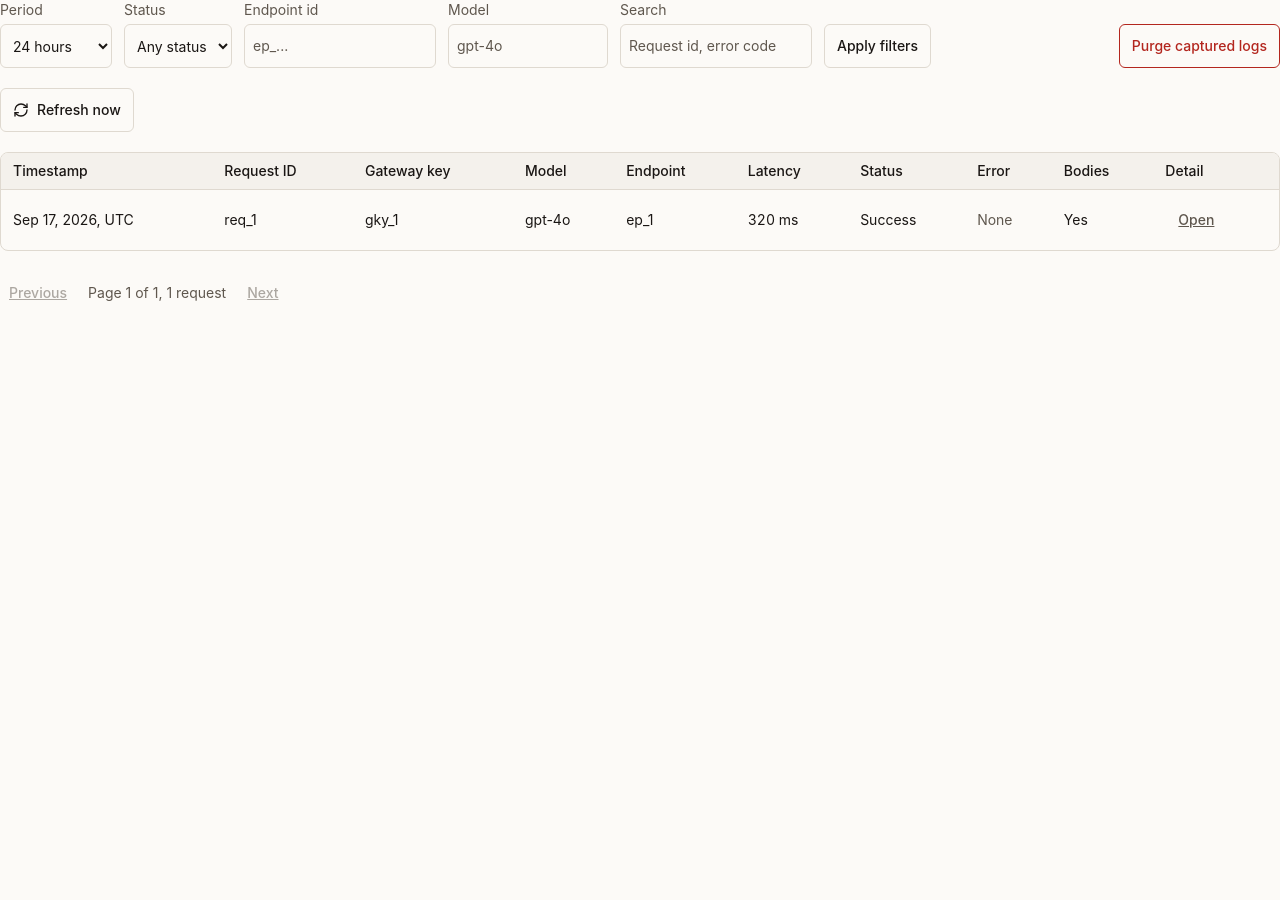
Scenario: the request detail and the purge dialog › distinguishes capture on with nothing stored from capture off
This screenshot has width=1280, height=900.
Expected: the table is shown, [1,153,1279,250]
What coordinates should you click on to do the following:
click the button "Open"
I would click on:
 (1196, 220)
Its box is [1165,198,1227,242].
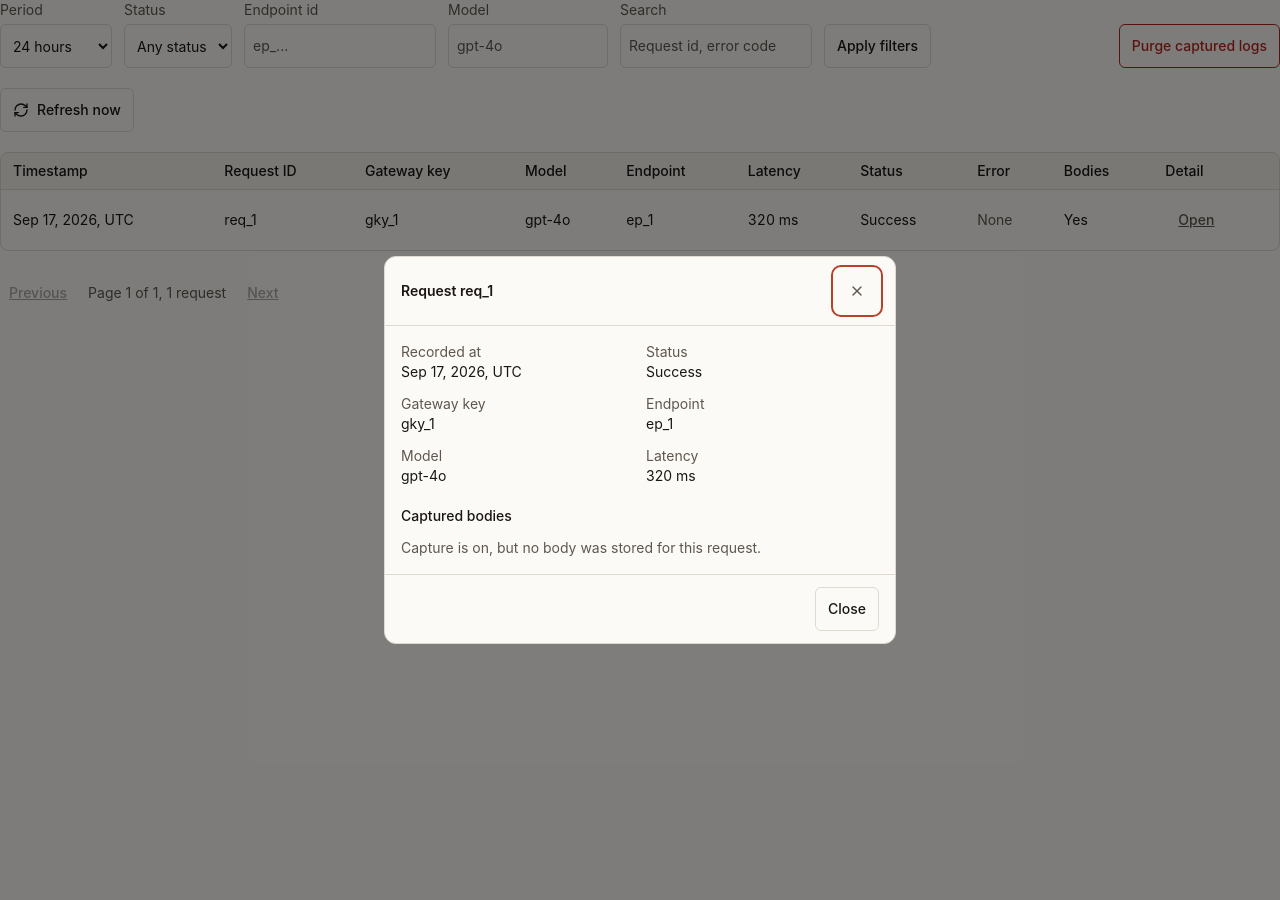
Expected: the text "Capture is on, but no body was stored for this request." is shown, [401,539,761,556]
